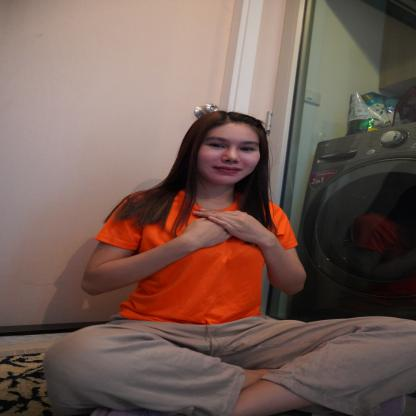Grieve: (174, 208, 276, 253)
